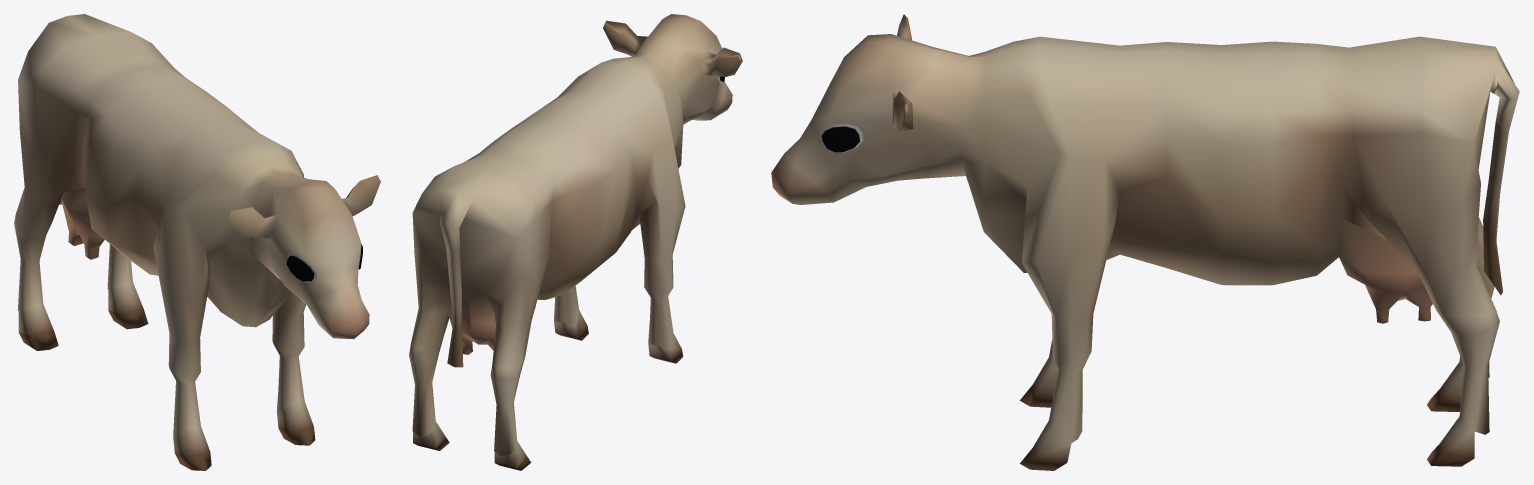
Rendered from animals-animals-whitecow_v2.fbx.
3 renders of one model, left to right at view 1: azimuth 30°, elevation 25°; view 2: azimuth 150°, elevation 25°; view 3: azimuth 270°, elevation 25°, orthographic. The views are drawn at different scales.
Visible parts, largest first — view 1: WhiteCow_v2; view 2: WhiteCow_v2; view 3: WhiteCow_v2.
Part boxes in pixels (x1,y1,x2,y2): WhiteCow_v2: (14,14,380,470); WhiteCow_v2: (409,14,742,470); WhiteCow_v2: (771,14,1519,470).
Bounding box in the file's own units: 0.6662 × 1.3 × 2.26.
